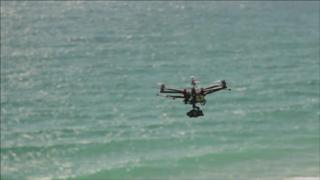UAV: (156, 78, 230, 118)
